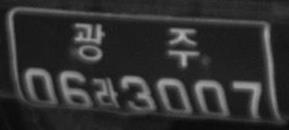0: (194, 78, 231, 118), (23, 66, 59, 105), (158, 76, 194, 114)
3: (120, 73, 158, 112)
6: (60, 69, 93, 109)
7: (231, 79, 263, 121)
광주_D: (74, 21, 200, 69)
라: (93, 76, 119, 109)
